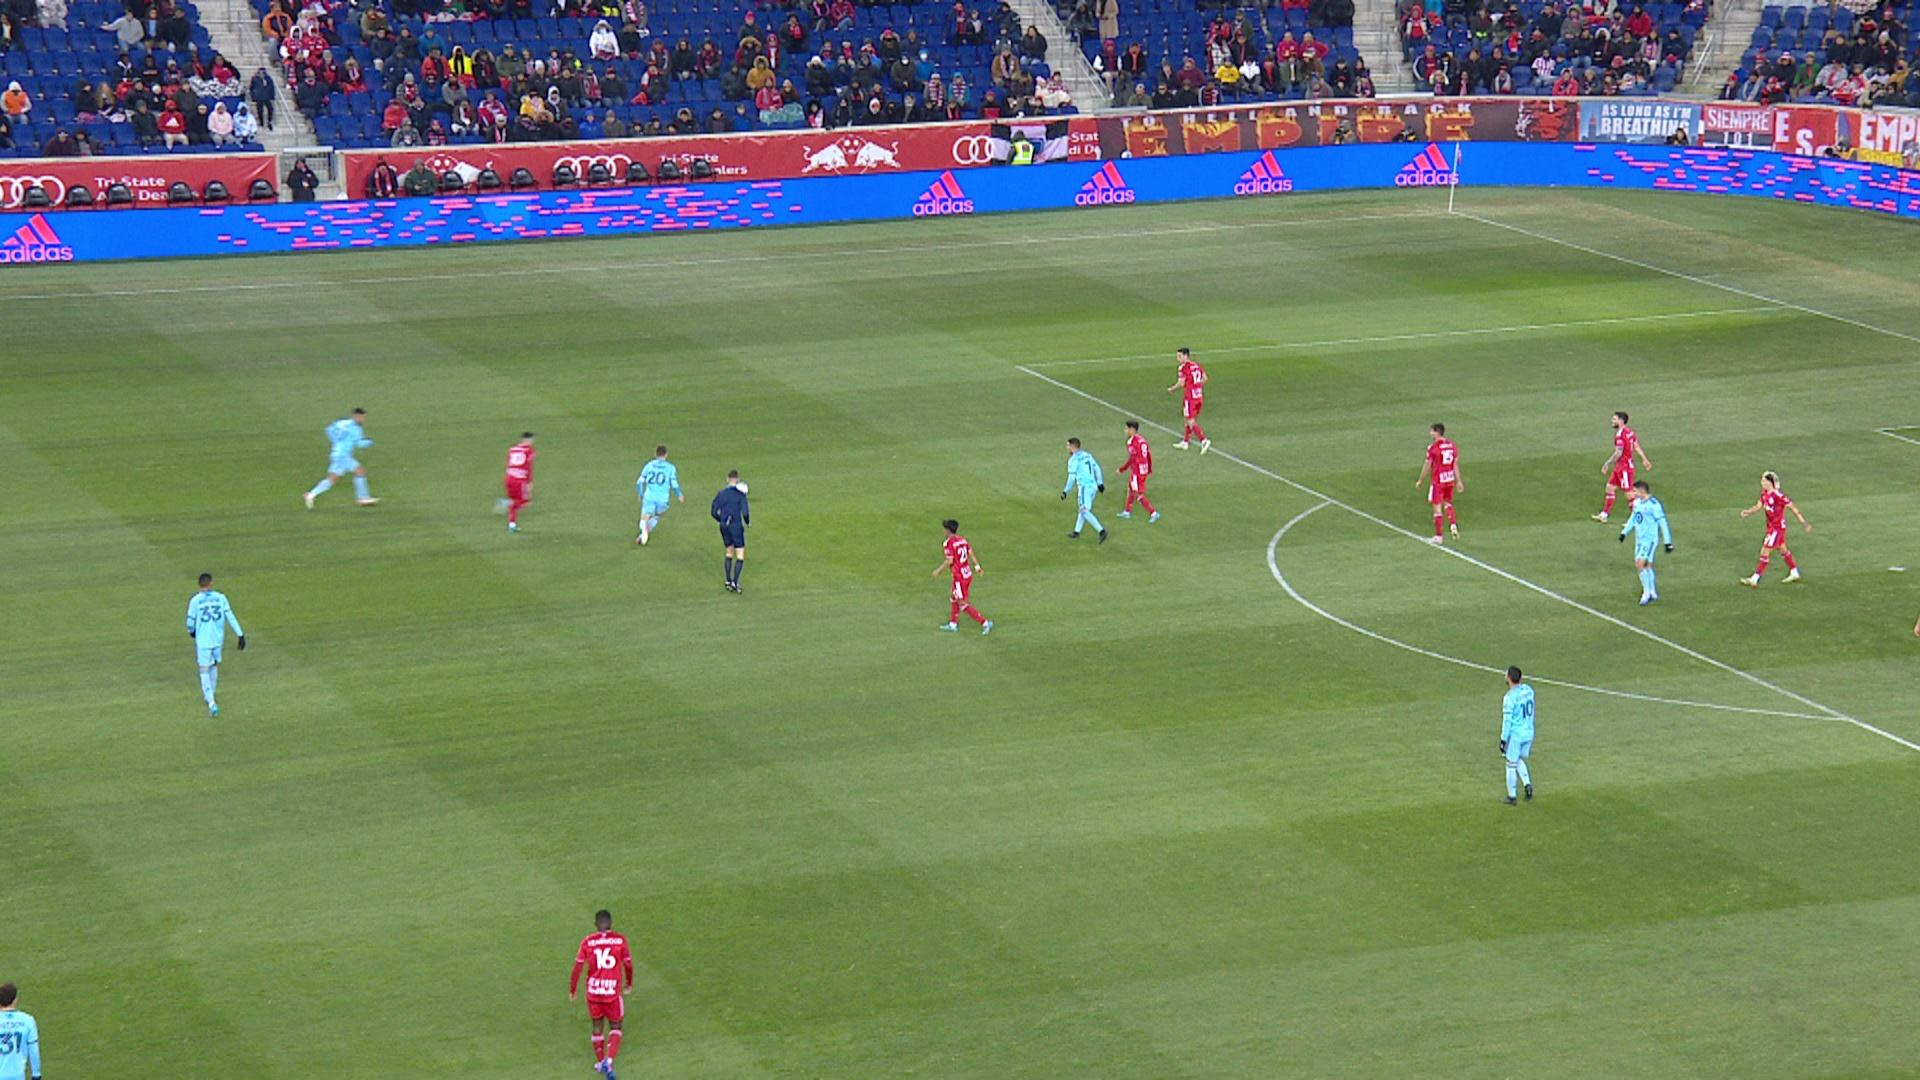football: (740, 481, 749, 491)
